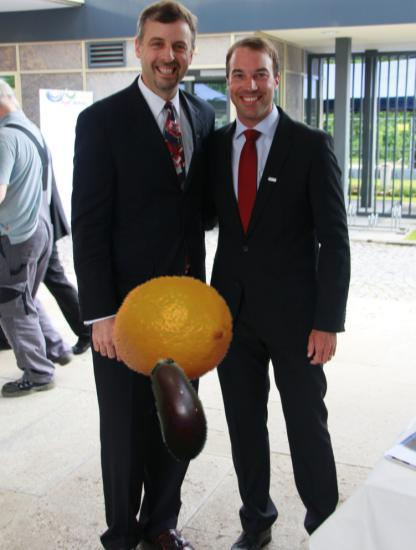Eggplant: (124, 353, 235, 464)
Lemon: (111, 267, 235, 391)
